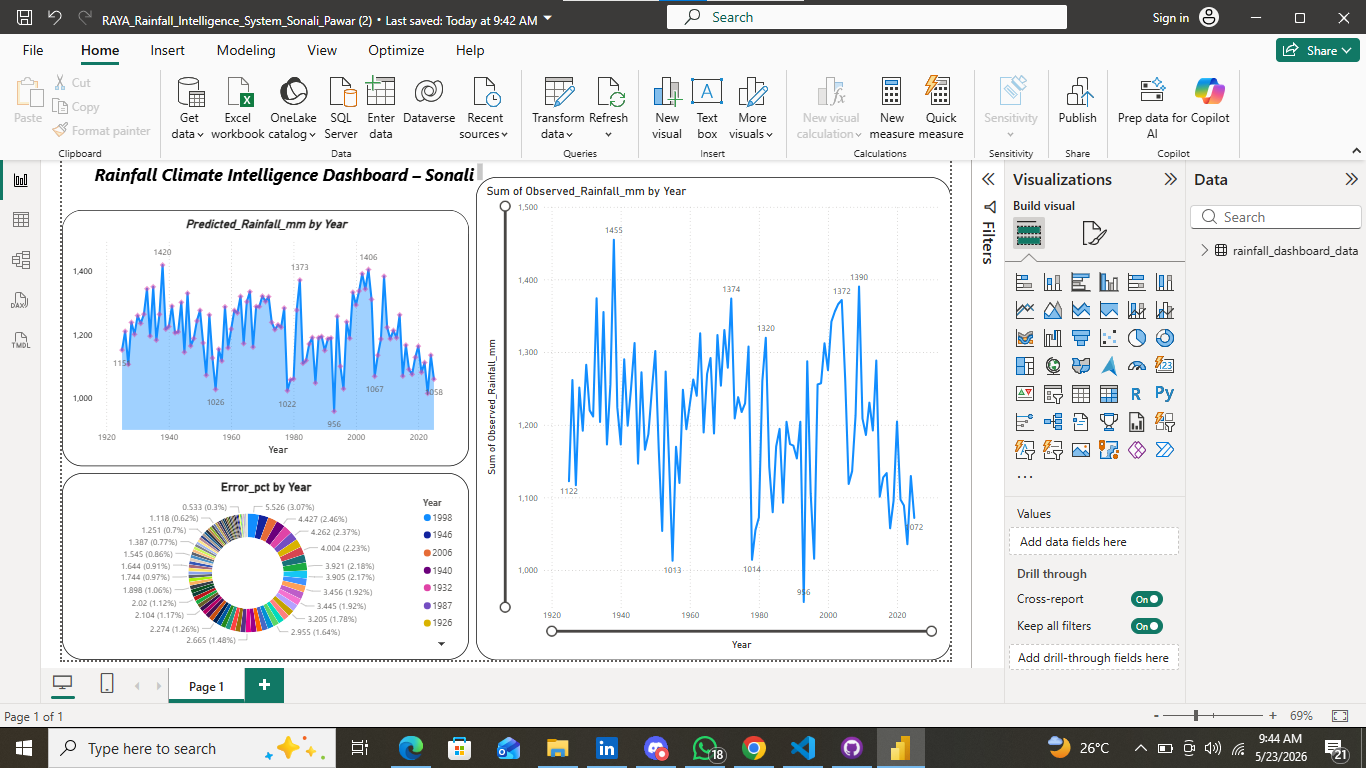

Layout of this report page (visuals, bound fields, positions):
{"tool":"powerbi","page":{"name":"Page 1","canvas":[1280,720],"ordinal":0},"visuals":[{"type":"textbox","box":[38.9,0,571.7,49],"z":0},{"type":"areaChart","title":" Predicted_Rainfall_mm by Year","fields":{"Category":["rainfall_dashboard_data.Year"],"Y":["Sum(rainfall_dashboard_data.Predicted_Rainfall_mm)"]},"box":[0,72,586.1,368.6],"z":1},{"type":"donutChart","title":" Error_pct by Year","fields":{"Category":["rainfall_dashboard_data.Year"],"Y":["Sum(rainfall_dashboard_data.Error_pct)"]},"box":[0,451,586,269],"z":2},{"type":"lineChart","fields":{"Category":["rainfall_dashboard_data.Year"],"Y":["Sum(rainfall_dashboard_data.Observed_Rainfall_mm)"]},"box":[596.2,182.9,684,537.1],"z":3},{"type":"qnaVisual","box":[652.3,0,627.8,182.9],"z":4}]}

Visuals, with their boxes on the page's 1280x720 design canvas (x1, y1, x2, y2). These are canvas units, not pixel positions in the 1366x768 screenshot, which may show the page scaled, cropped or inside an application window:
textbox: Rect(39, 0, 611, 49)
" Predicted_Rainfall_mm by Year" areaChart: Rect(0, 72, 586, 441)
" Error_pct by Year" donutChart: Rect(0, 451, 586, 720)
lineChart - rainfall_dashboard_data.Year x Sum(rainfall_dashboard_data.Observed_Rainfall_mm): Rect(596, 183, 1280, 720)
qnaVisual: Rect(652, 0, 1280, 183)
